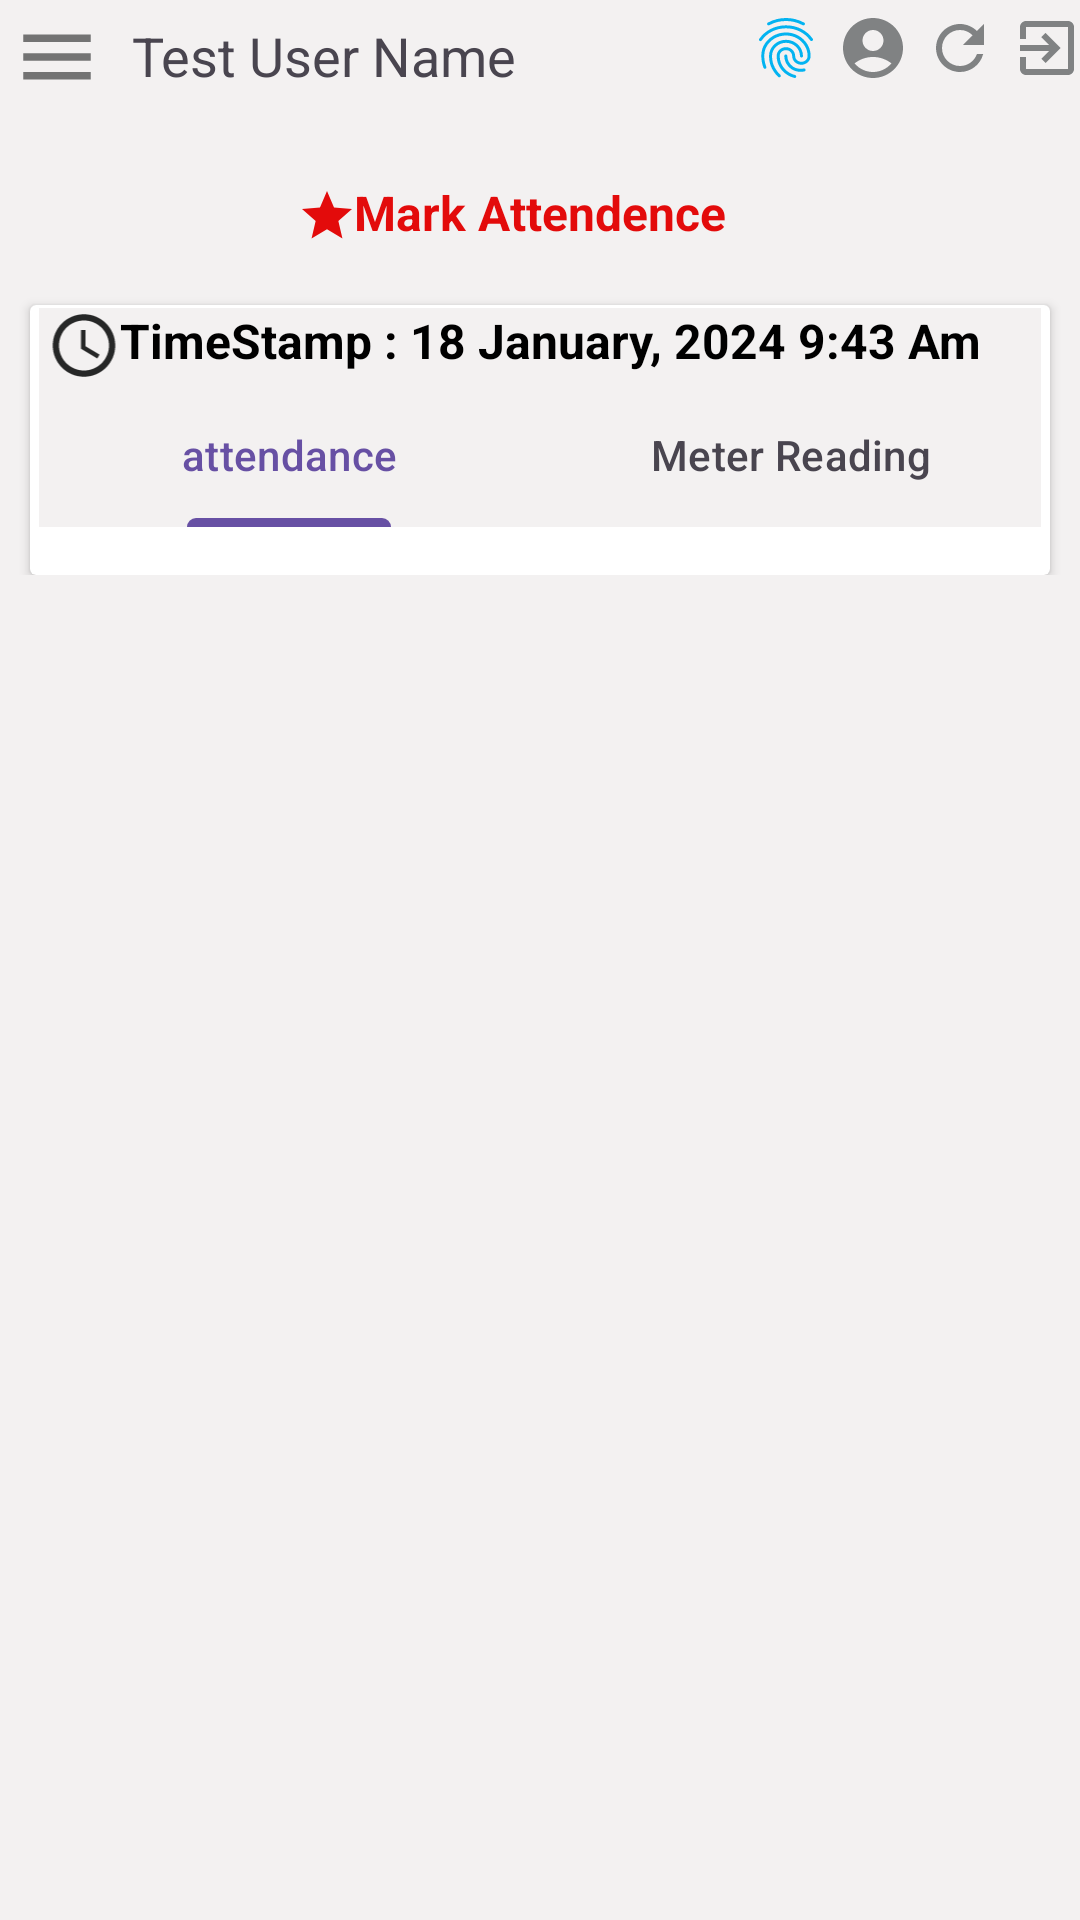

Icons on this 1080*1920 Android screen, each with its box as box=[x1, y1, x2, y2]:
access time: box=[52, 314, 116, 377]
account circle: box=[843, 18, 903, 78]
exit to app: box=[1020, 21, 1074, 75]
fingerprint: box=[759, 18, 813, 78]
menu: box=[23, 34, 91, 80]
refresh: box=[936, 24, 984, 72]
star: box=[302, 191, 352, 239]
